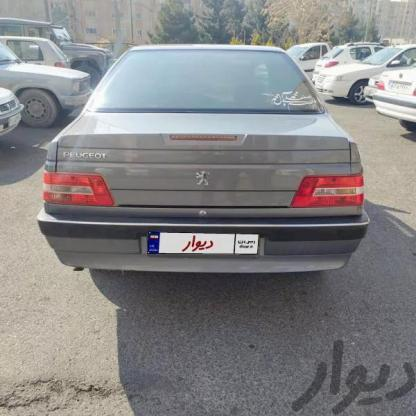Car: (46, 37, 352, 301), (0, 43, 92, 116), (317, 41, 416, 102), (385, 68, 416, 141), (0, 76, 26, 144), (286, 35, 324, 80)
